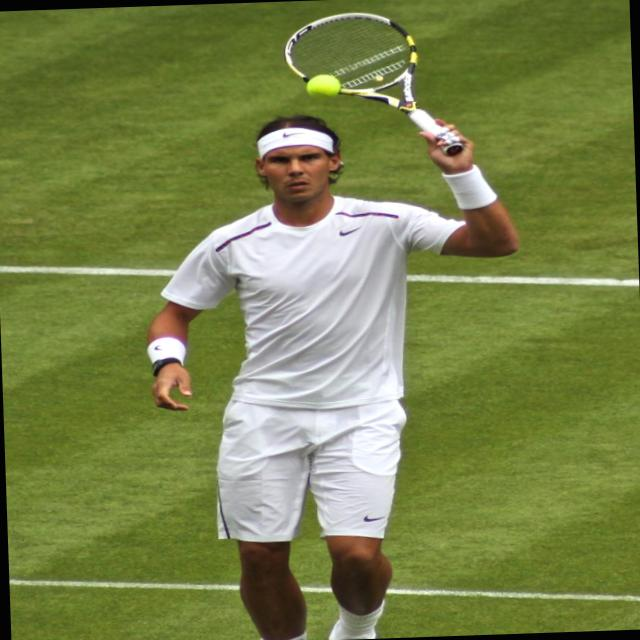Tennis Ball: (302, 74, 338, 105)
